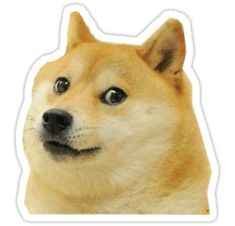doge: (23, 9, 199, 213)
